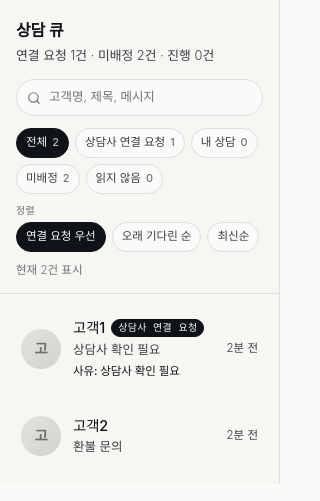
Test: QueuePanel › 상담사 연결 요청 필터를 선택하면 handoffRequired 세션만 표시한다
What coordinates should you click on to do the following:
click the button "상담사 연결 요청 1"
I would click on:
 (130, 143)
Its box is [75,128,185,158].
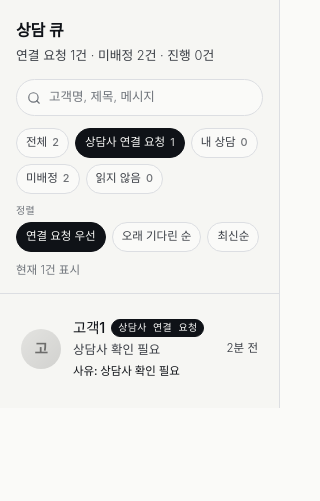
Expected: the text "고객1" is shown, [73,317,105,339]
Now the button "고객2" is gone
